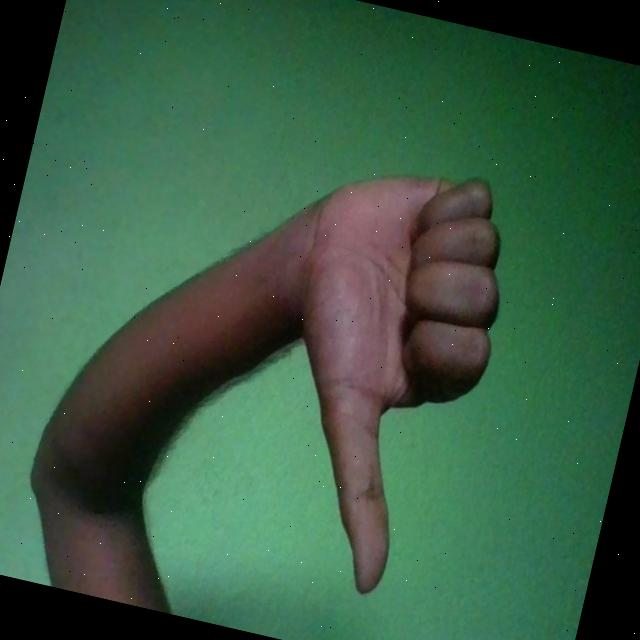Dislike: (232, 140, 526, 612)
